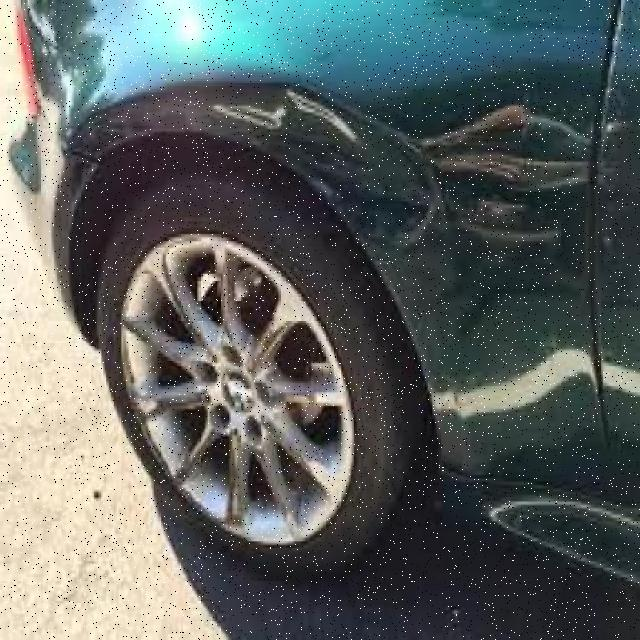damage: (253, 89, 439, 254)
